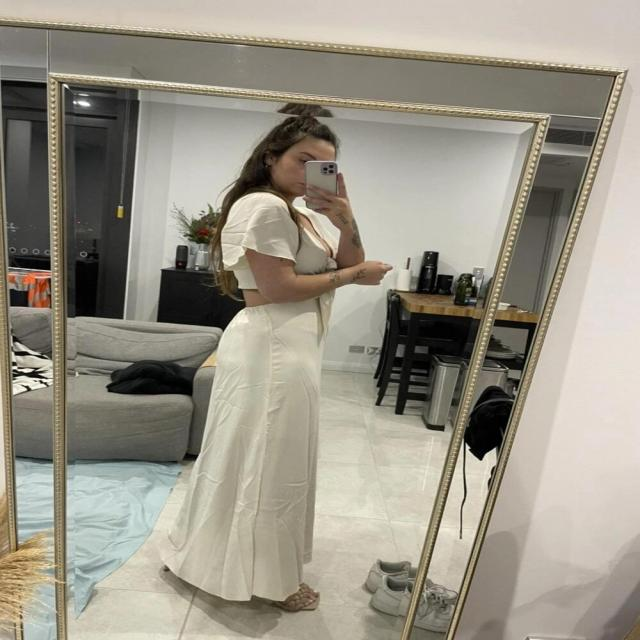clothes: (181, 176, 350, 610)
